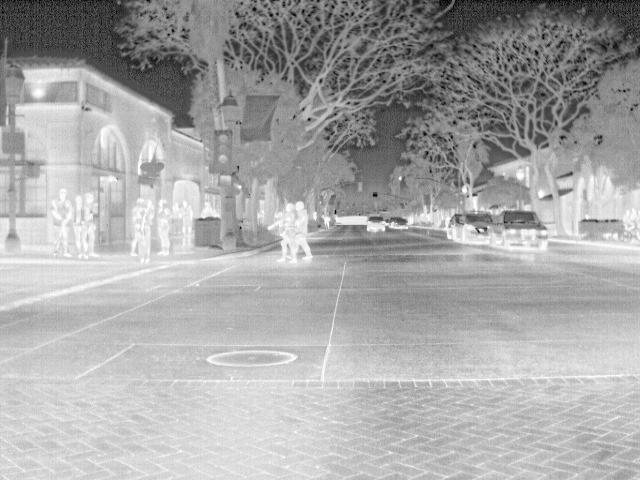car: (486, 209, 549, 251), (456, 211, 495, 247), (365, 213, 389, 233), (390, 218, 412, 232)
person: (266, 206, 293, 262), (49, 189, 71, 256), (293, 200, 314, 262), (128, 197, 149, 258), (81, 192, 99, 256), (157, 196, 174, 255), (178, 200, 196, 248), (70, 193, 83, 253), (198, 200, 224, 218)
